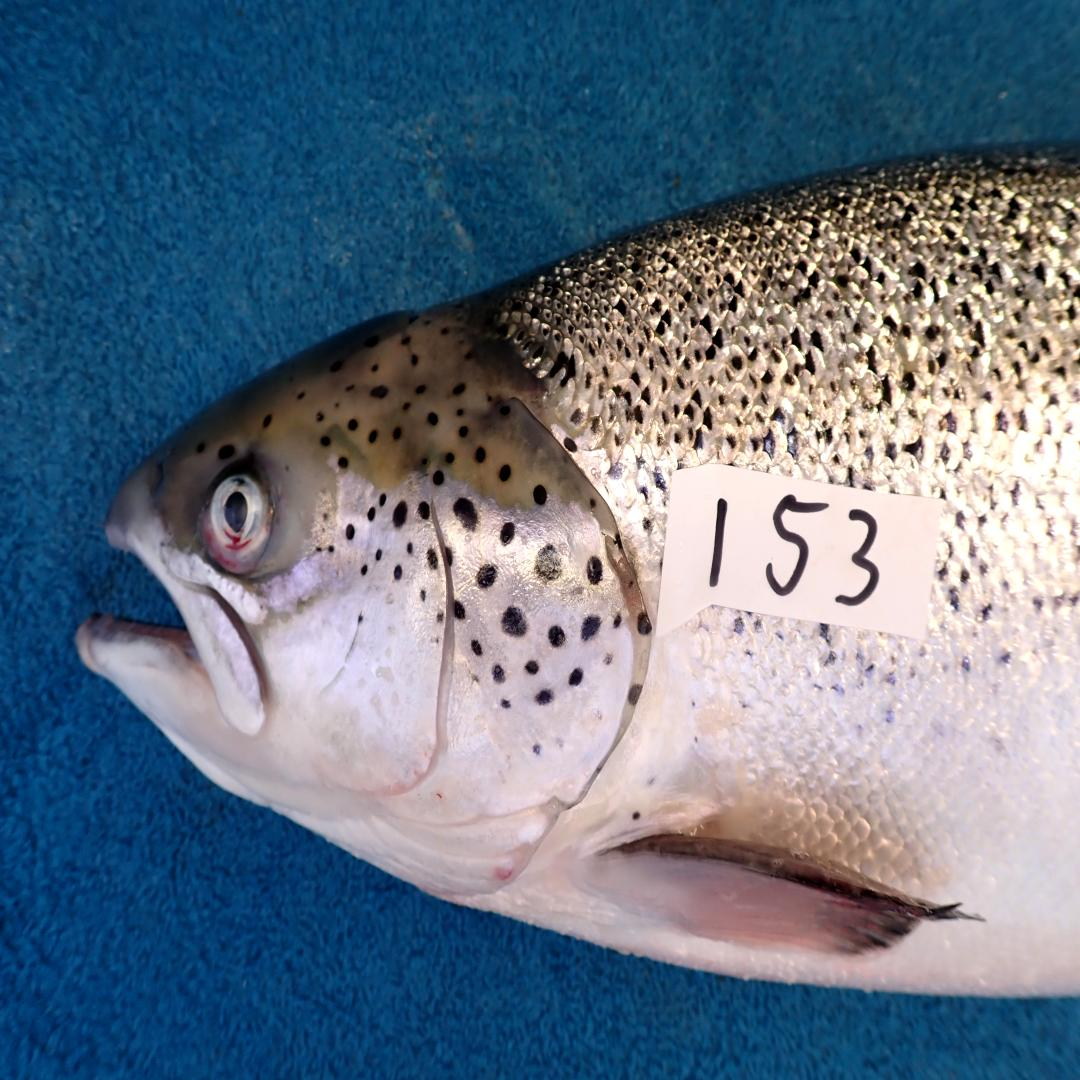roi: (268, 458, 642, 901)
